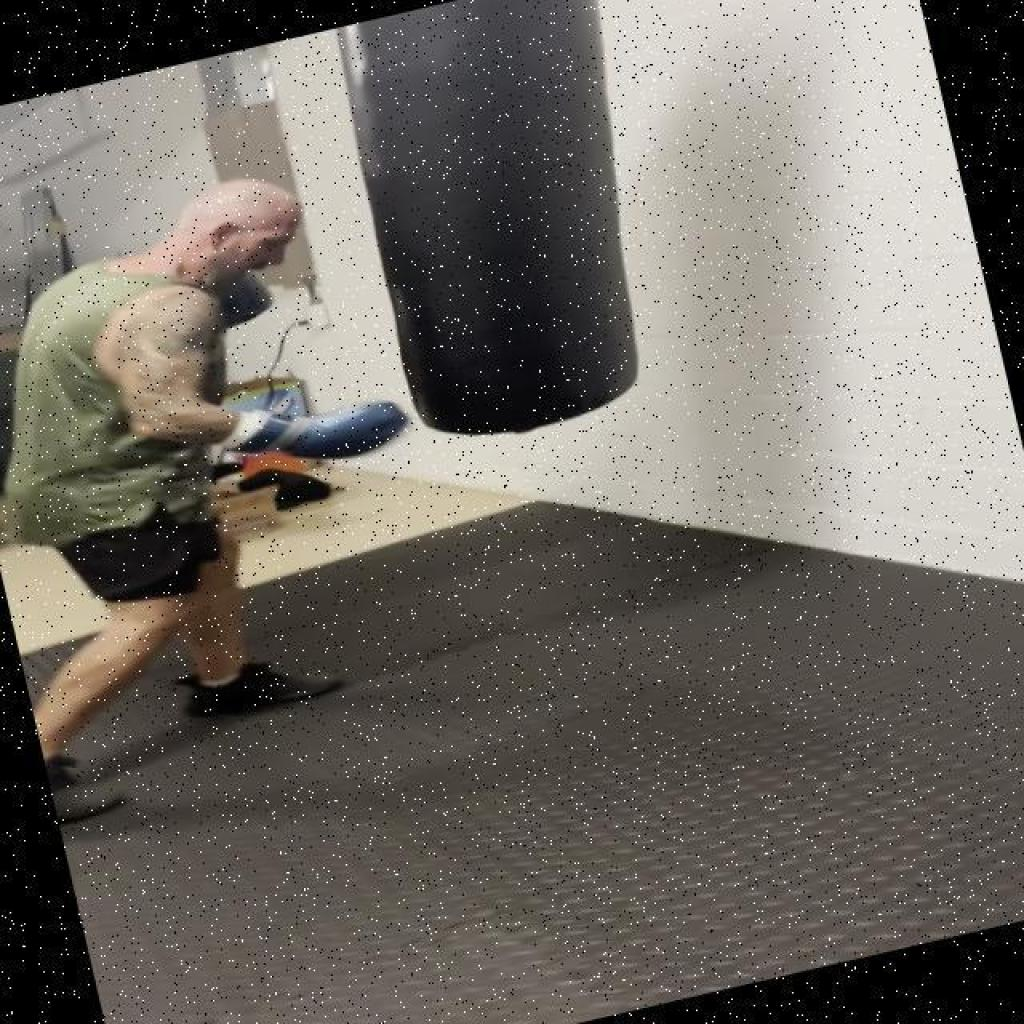bag: (316, 2, 710, 467)
uppercut: (2, 148, 435, 534)
